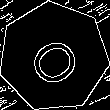O_NE: (21, 25, 87, 88)
